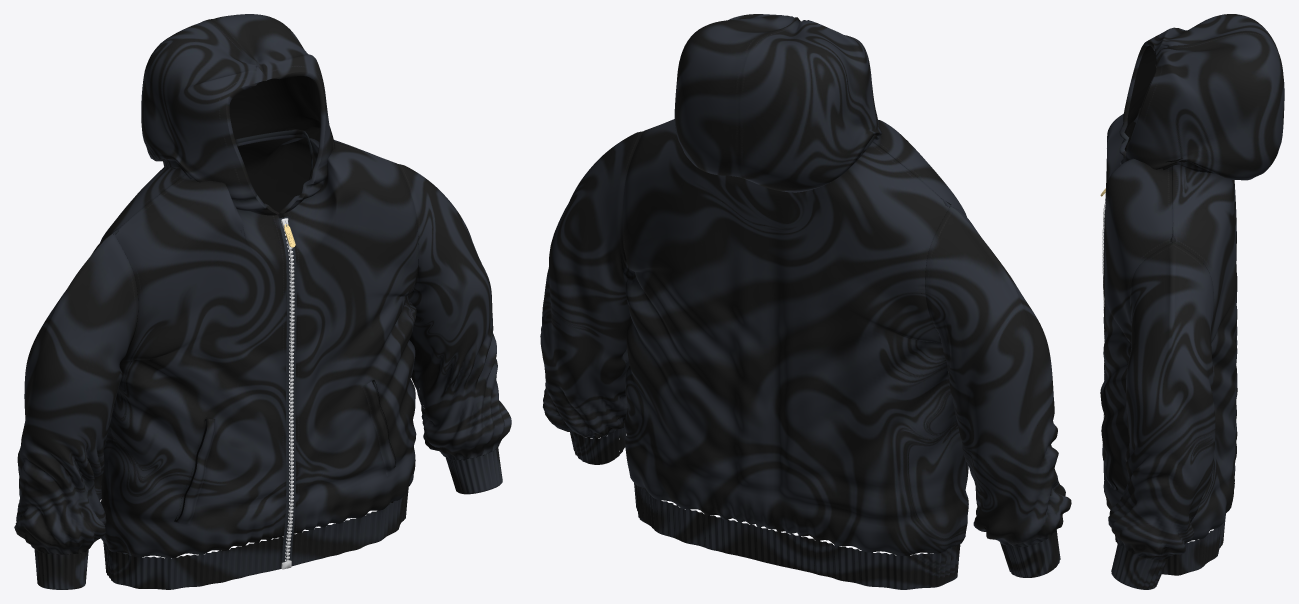
File: ressac-v3-noir-absolu.glb
3 renders of one model, left to right at view 1: azimuth 30°, elevation 25°; view 2: azimuth 150°, elevation 25°; view 3: azimuth 270°, elevation 25°, orthographic. The views are drawn at different scales.
Visible parts, largest first — view 1: Panel_Right, Panel_Left, Sleeve_Right, Hood_Outer, Sleeve_Left, Hem, Body_Back, Hood_Inner, Zip_Teeth_Right, Zip_Teeth_Left, Cuff_Right, Cuff_Left (+2 smaller); view 2: Body_Back, Hood_Outer, Sleeve_Right, Sleeve_Left, Hem, Panel_Right, Cuff_Right, Cuff_Left; view 3: Sleeve_Left, Hood_Outer, Body_Back, Panel_Left, Cuff_Left, Hem, Hood_Inner, Panel_Right, Pocket_Left.
Boxes of the visible parts, left/top/right/bottom form: Panel_Right: left=105, top=175, right=286, bottom=558; Panel_Left: left=282, top=138, right=418, bottom=533; Sleeve_Right: left=14, top=233, right=138, bottom=554; Hood_Outer: left=141, top=14, right=335, bottom=215; Sleeve_Left: left=398, top=164, right=511, bottom=460; Hem: left=103, top=487, right=408, bottom=589; Body_Back: left=100, top=128, right=398, bottom=543; Hood_Inner: left=229, top=76, right=320, bottom=203; Zip_Teeth_Right: left=278, top=217, right=293, bottom=569; Zip_Teeth_Left: left=283, top=216, right=296, bottom=567; Cuff_Right: left=34, top=549, right=88, bottom=589; Cuff_Left: left=446, top=447, right=502, bottom=494; Body_Back: left=622, top=119, right=960, bottom=555; Hood_Outer: left=674, top=14, right=881, bottom=192; Sleeve_Right: left=925, top=206, right=1071, bottom=546; Sleeve_Left: left=540, top=131, right=642, bottom=438; Hem: left=634, top=483, right=960, bottom=589; Panel_Right: left=872, top=120, right=968, bottom=545; Cuff_Right: left=1000, top=530, right=1060, bottom=577; Cuff_Left: left=570, top=425, right=625, bottom=464; Sleeve_Left: left=1108, top=242, right=1215, bottom=559; Hood_Outer: left=1119, top=14, right=1284, bottom=180; Body_Back: left=1170, top=164, right=1237, bottom=543; Panel_Left: left=1102, top=158, right=1175, bottom=509; Cuff_Left: left=1111, top=542, right=1168, bottom=589; Hem: left=1115, top=513, right=1225, bottom=575; Hood_Inner: left=1124, top=45, right=1187, bottom=164; Panel_Right: left=1105, top=107, right=1140, bottom=200; Pocket_Left: left=1100, top=381, right=1117, bottom=489.
Size of the model in its own units: 0.8831 by 0.8705 by 0.3057.
Materials: 7 (1 with a texture image).
